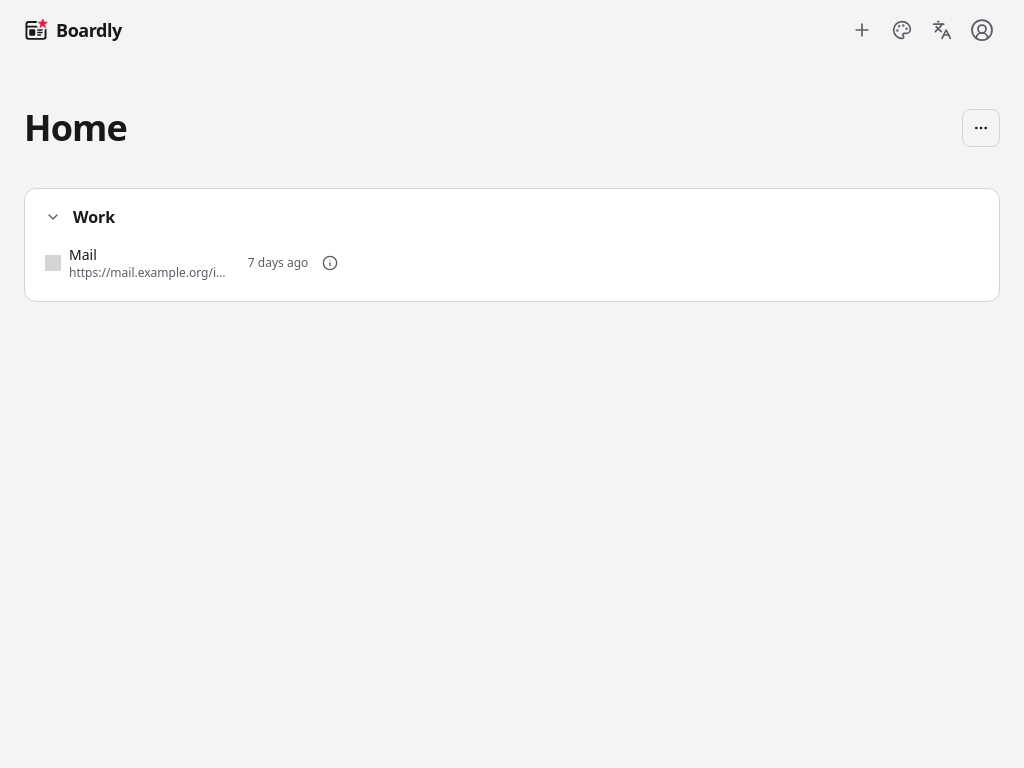
Test case: the recent favourites widget on a dashboard › opens a link's details for the owner
Click the button named "Details for Mail". click: (330, 263)
box: [316, 249, 344, 277]
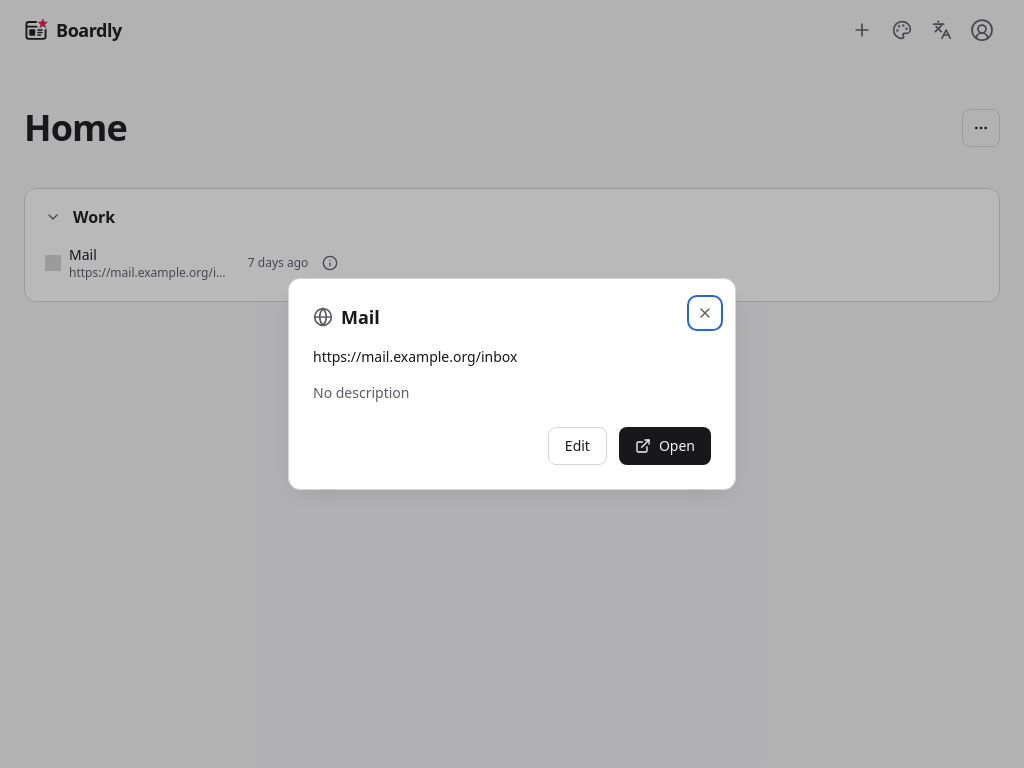
expect the dialog "Mail" is shown: met, box [288, 278, 736, 490]
